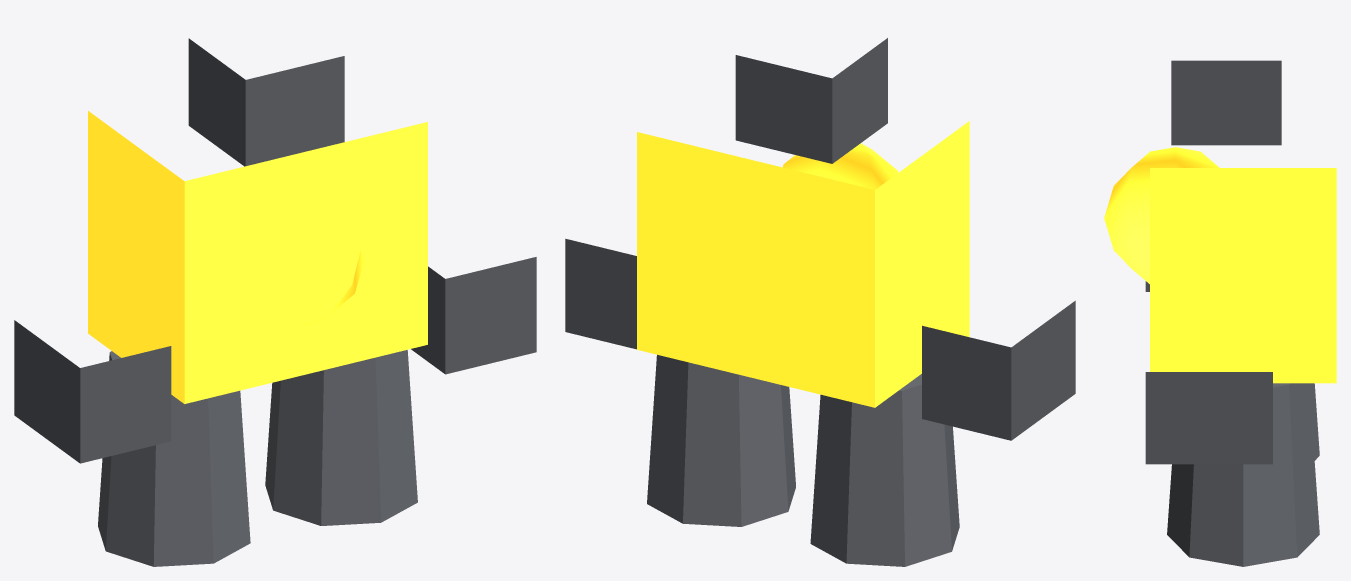
The model's file is boss_obsidian_golem.glb.
3 views of the same model, side by side, from view 1: azimuth 30°, elevation 25°; view 2: azimuth 150°, elevation 25°; view 3: azimuth 270°, elevation 25° (orthographic). The views are drawn at different scales.
Visible parts, largest first — view 1: Torso, RightLeg, LeftLeg, LeftArm, Head, RightArm; view 2: Torso, LeftLeg, RightLeg, LeftArm, Head, RightArm; view 3: Torso, RightLeg, RightArm, Head, LeftLeg.
Boxes of the visible parts, x1,y1,x2,y2 form: Torso: (88,111,427,403); RightLeg: (265,350,417,525); LeftLeg: (98,351,250,566); LeftArm: (14,320,171,463); Head: (188,38,344,166); RightArm: (411,257,536,374); Torso: (637,121,969,407); LeftLeg: (810,374,959,566); RightLeg: (647,354,795,526); LeftArm: (922,300,1075,440); Head: (735,38,887,163); RightArm: (565,238,636,349); Torso: (1104,147,1336,383); RightLeg: (1167,383,1319,566); RightArm: (1145,372,1272,464); Head: (1171,60,1281,145); LeftLeg: (1309,383,1319,460).
Size of the model in its own units: 3 by 2.97 by 1.37.
